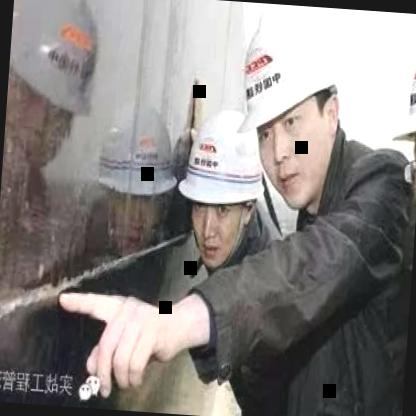helmet: (226, 9, 355, 233), (170, 92, 270, 276), (385, 51, 416, 252)
